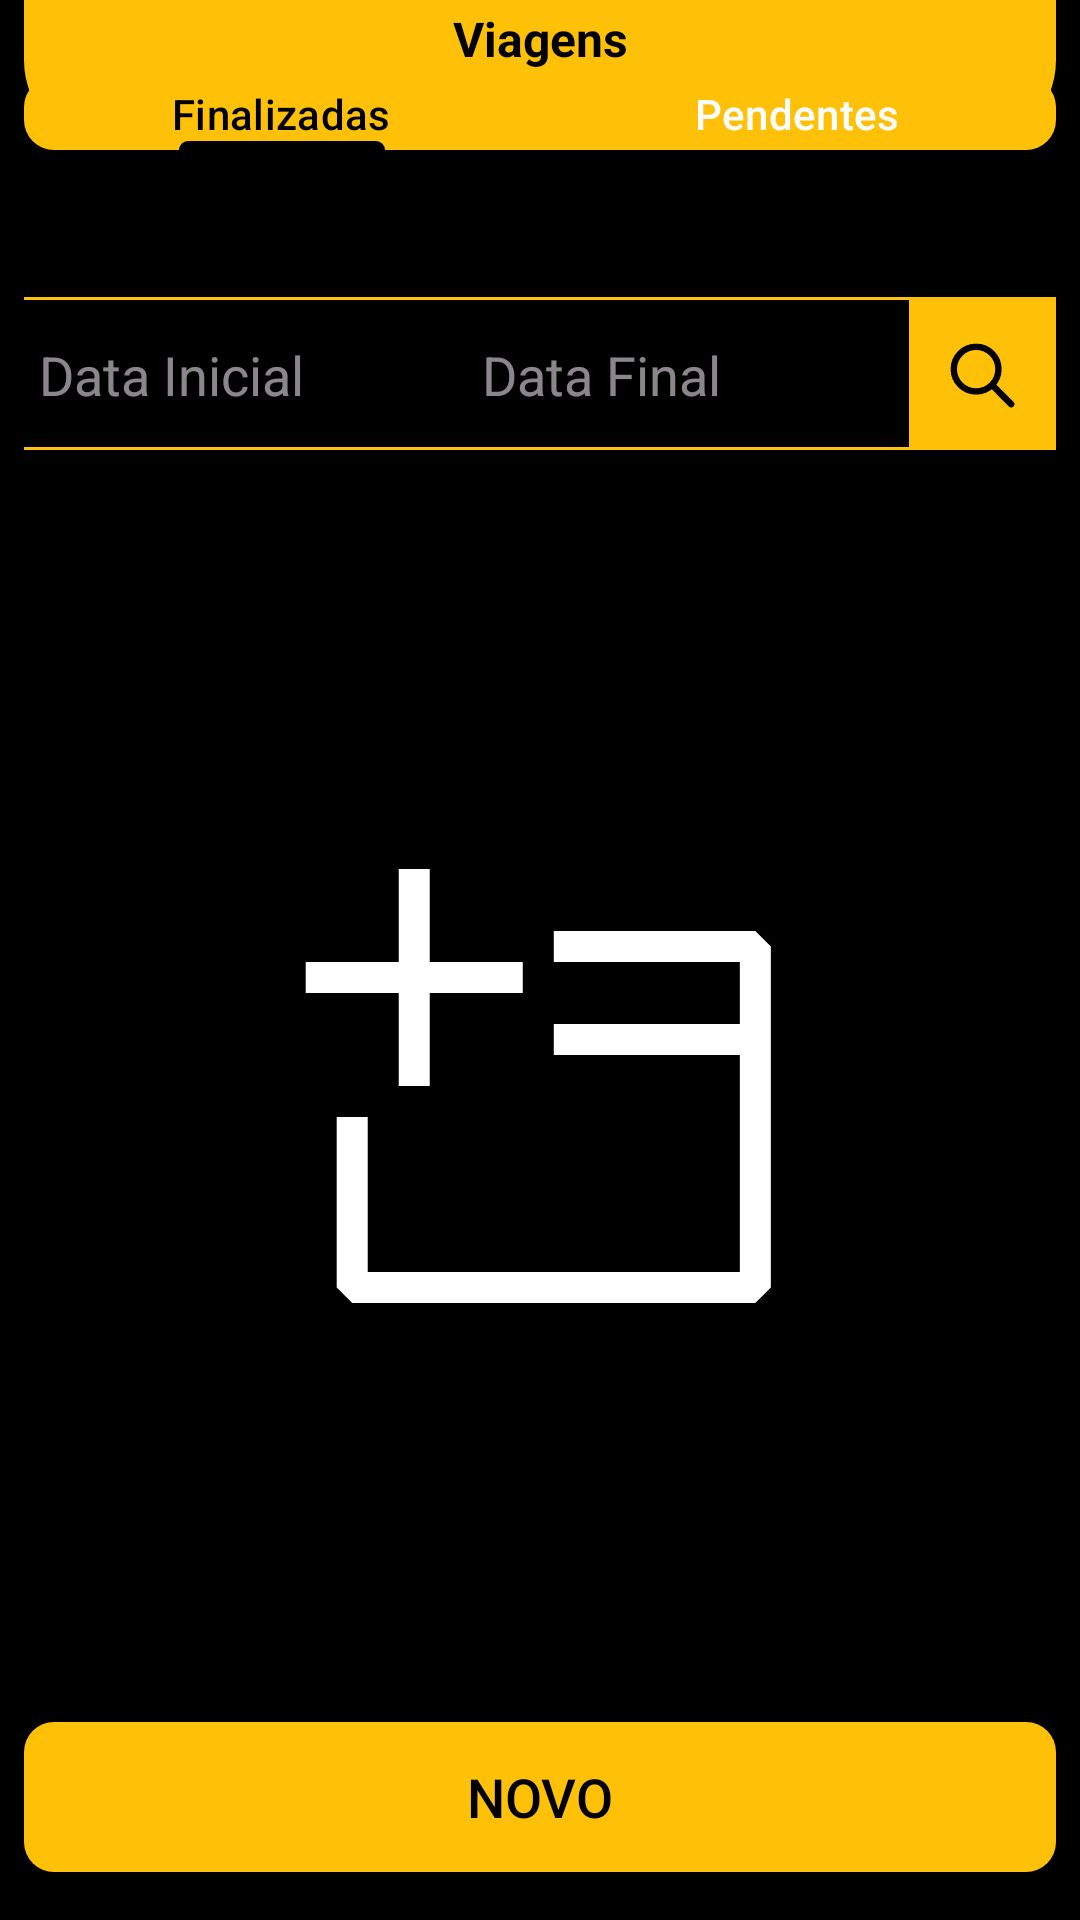

Icon click points for this 1080x1920 phone screenshot, format point (x, y):
search: point (982, 375)
